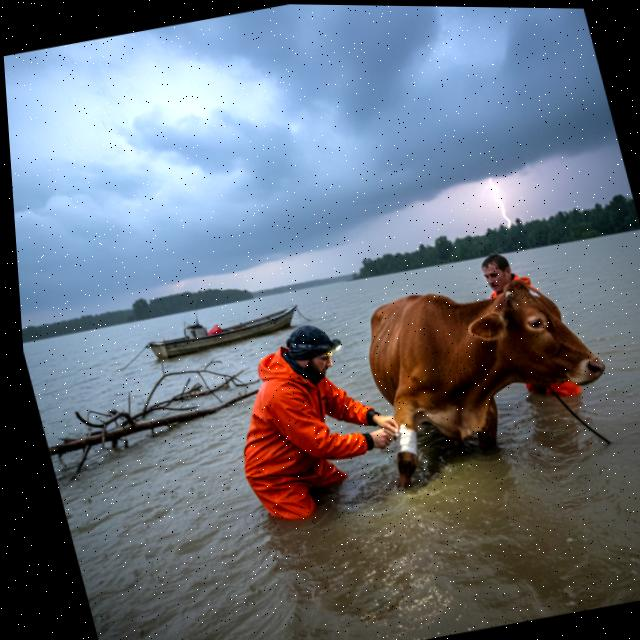civilian: (198, 297, 425, 544), (459, 232, 605, 419)
cow: (345, 246, 640, 496)
